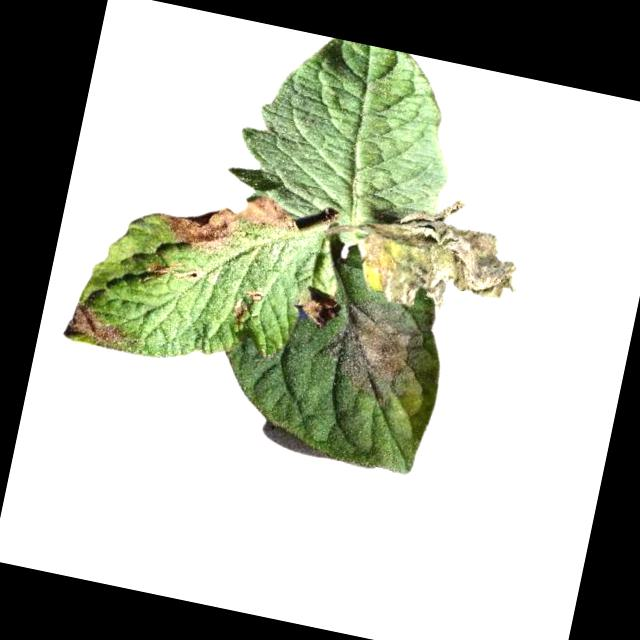Late_blight: (342, 177, 530, 326), (152, 174, 303, 270), (322, 294, 431, 415), (61, 295, 146, 355), (292, 280, 344, 331), (142, 252, 205, 287), (230, 283, 268, 331)
